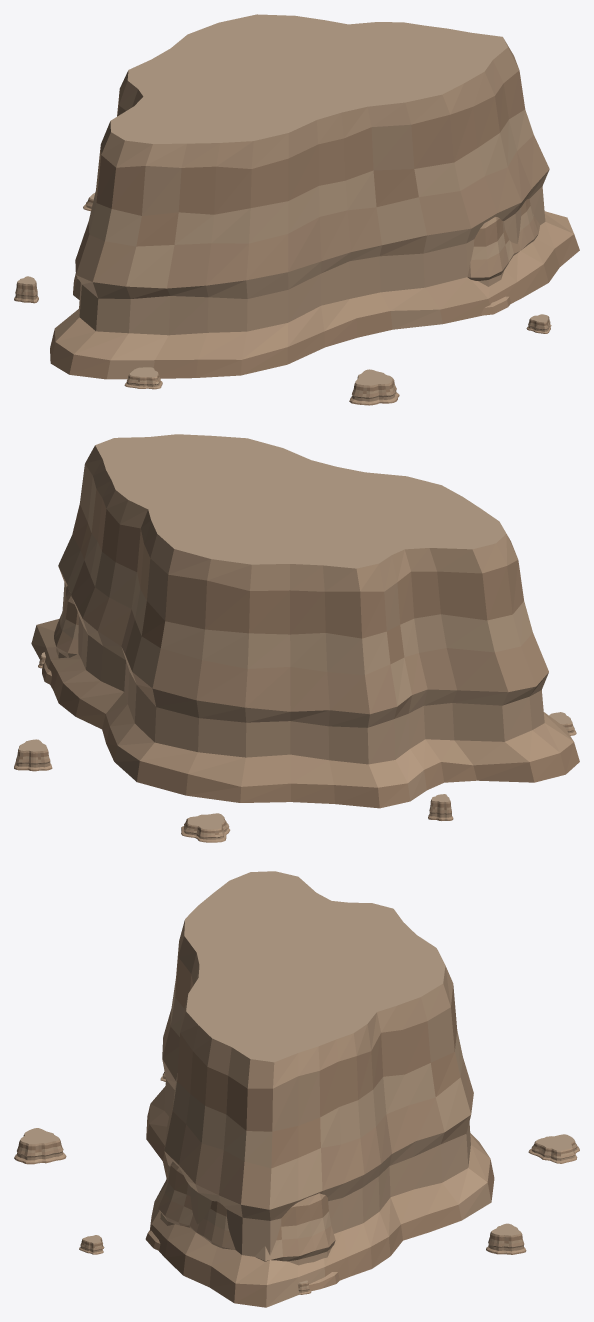
Rendered from CanyonMesa1.glb.
The picture shows the model from 3 angles, top to bottom: view 1: azimuth 30°, elevation 25°; view 2: azimuth 150°, elevation 25°; view 3: azimuth 270°, elevation 25°; orthographic projection. The views are drawn at different scales.
Parts seen in each view (by area): view 1: Wind cut canyon face, Stepped sandstone spur, Canyon scree.005, Canyon scree.004, Canyon scree.003; view 2: Wind cut canyon face, Stepped sandstone spur, Canyon scree.002, Canyon scree.001, Canyon scree.003; view 3: Wind cut canyon face, Stepped sandstone spur, Canyon scree.005, Canyon scree.002, Canyon scree.001.
Part boxes in pixels (<box>): Wind cut canyon face: <box>50,14,579,379</box>; Stepped sandstone spur: <box>467,198,540,315</box>; Canyon scree.005: <box>349,369,399,405</box>; Canyon scree.004: <box>124,367,162,389</box>; Canyon scree.003: <box>14,276,38,303</box>; Wind cut canyon face: <box>31,434,579,808</box>; Stepped sandstone spur: <box>42,586,78,684</box>; Canyon scree.002: <box>181,813,230,842</box>; Canyon scree.001: <box>14,739,52,771</box>; Canyon scree.003: <box>428,794,453,820</box>; Wind cut canyon face: <box>146,871,494,1307</box>; Stepped sandstone spur: <box>145,1161,339,1291</box>; Canyon scree.005: <box>14,1128,66,1164</box>; Canyon scree.002: <box>528,1134,579,1163</box>; Canyon scree.001: <box>486,1223,526,1254</box>.
Bounding box in the file's own units: 18.17 × 7.08 × 17.05.
